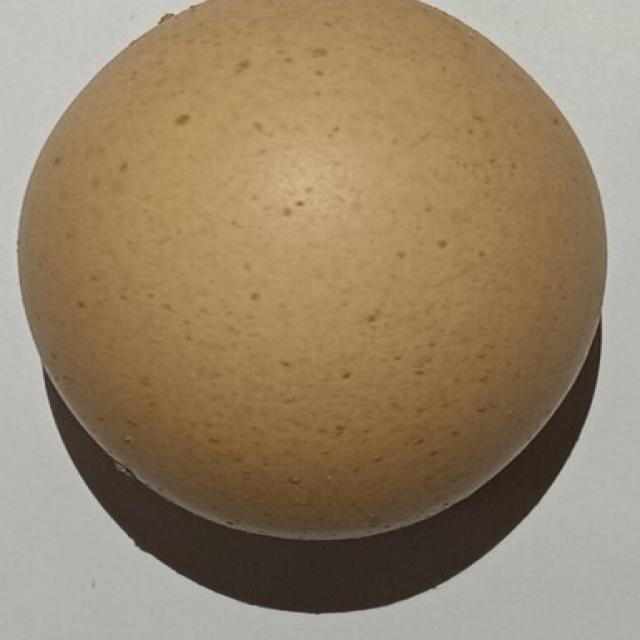unfresh: (8, 0, 620, 546)
